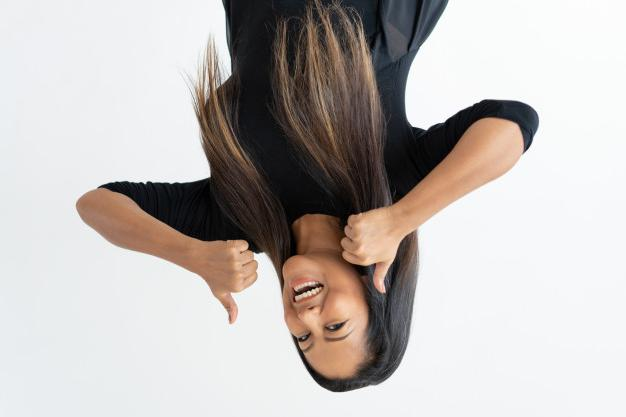thumbsdown: (341, 213, 387, 294), (215, 240, 258, 326)
